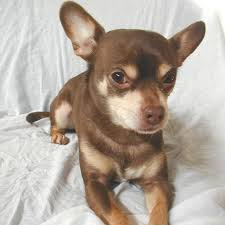chihuahua: (33, 2, 203, 225)
